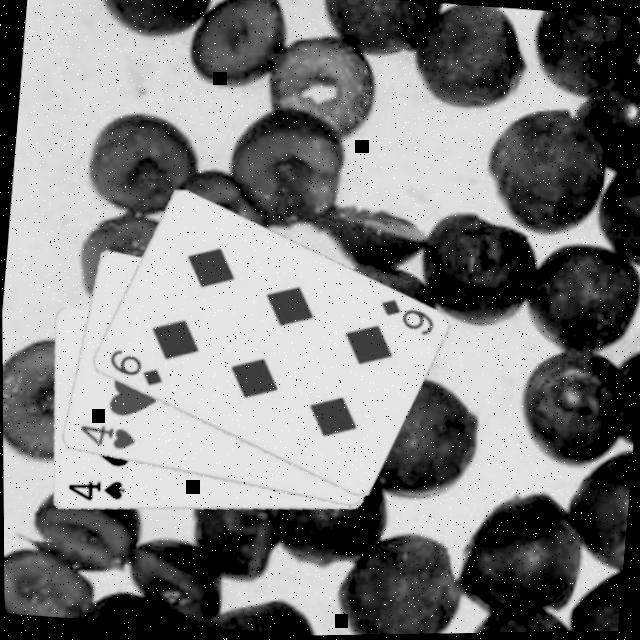4H: (73, 419, 137, 454)
4S: (61, 472, 126, 507)
6D: (373, 294, 436, 339), (102, 344, 164, 389)
